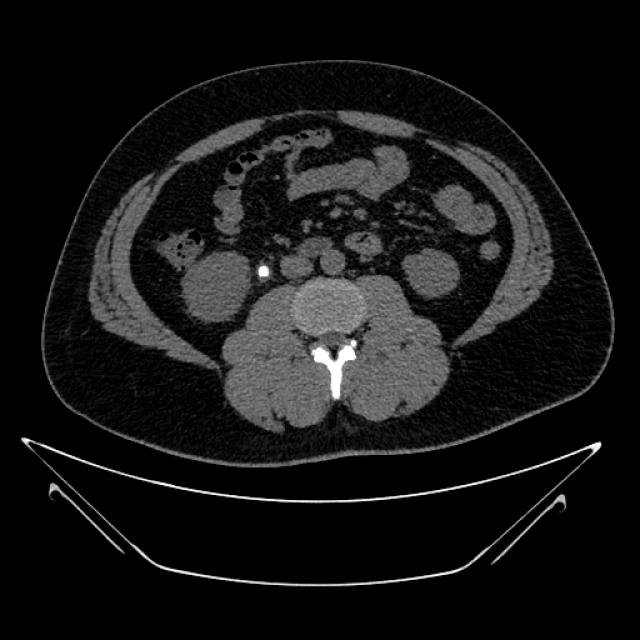kidneystone: (258, 266, 269, 277)
